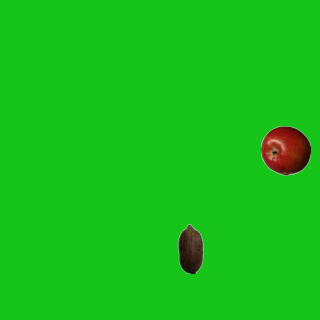Apple Braeburn: (260, 125, 310, 175)
Nut Pecan: (165, 223, 215, 273)
